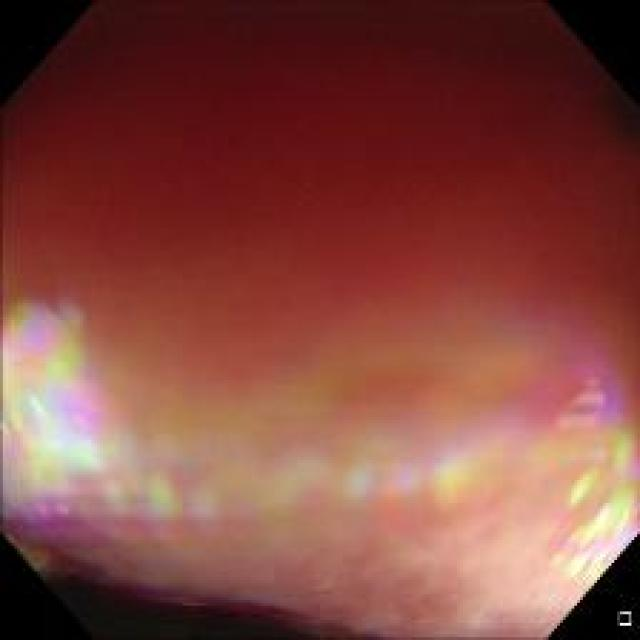color misalignment: (9, 6, 624, 622), (2, 291, 634, 629)
contrast: (22, 559, 331, 634)
